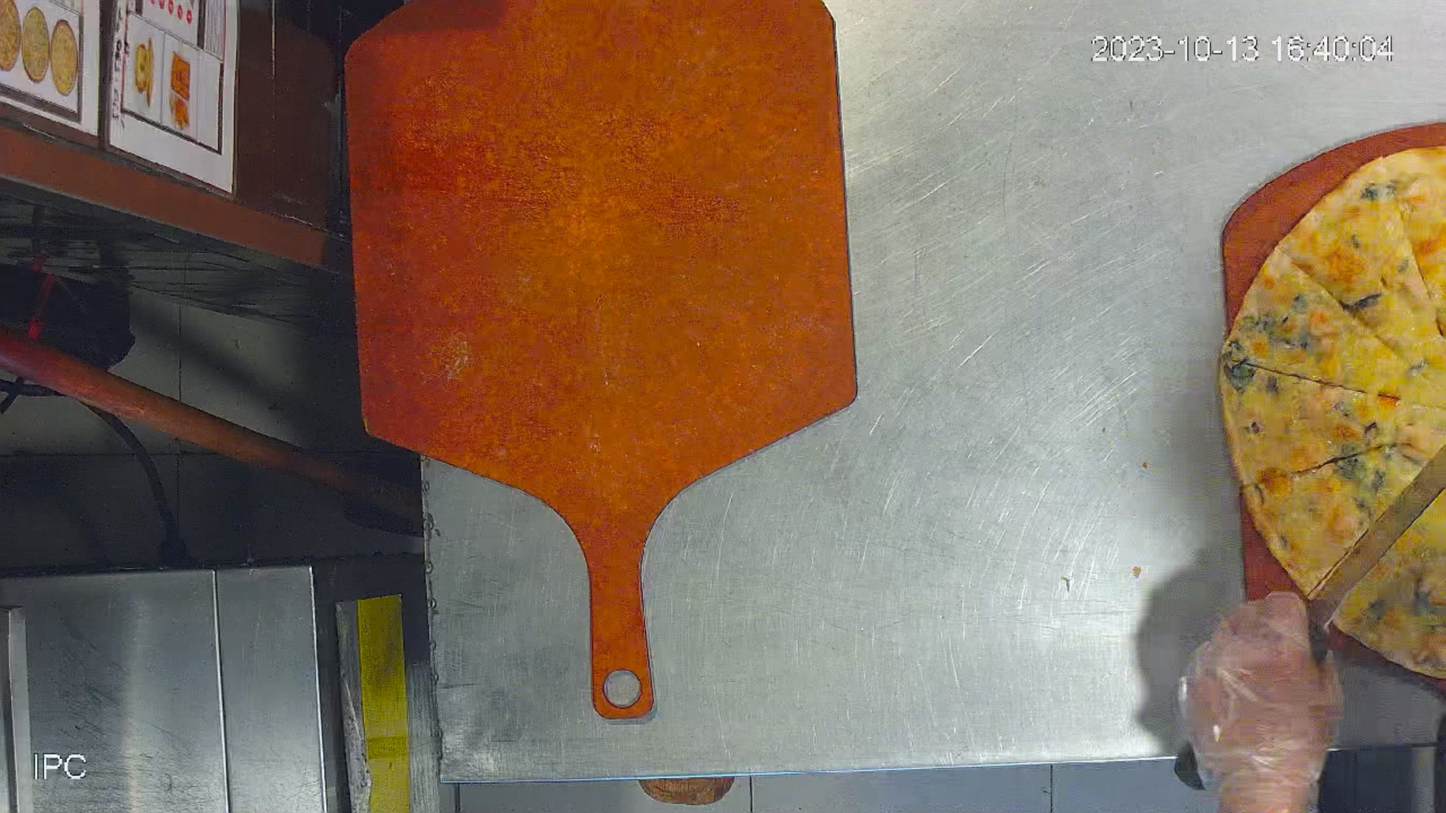bianca: (1215, 135, 1443, 676)
